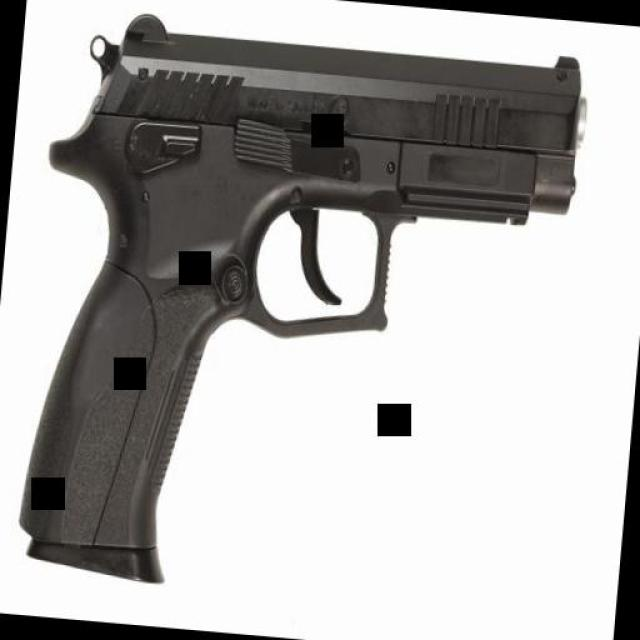gun: (12, 4, 592, 614)
